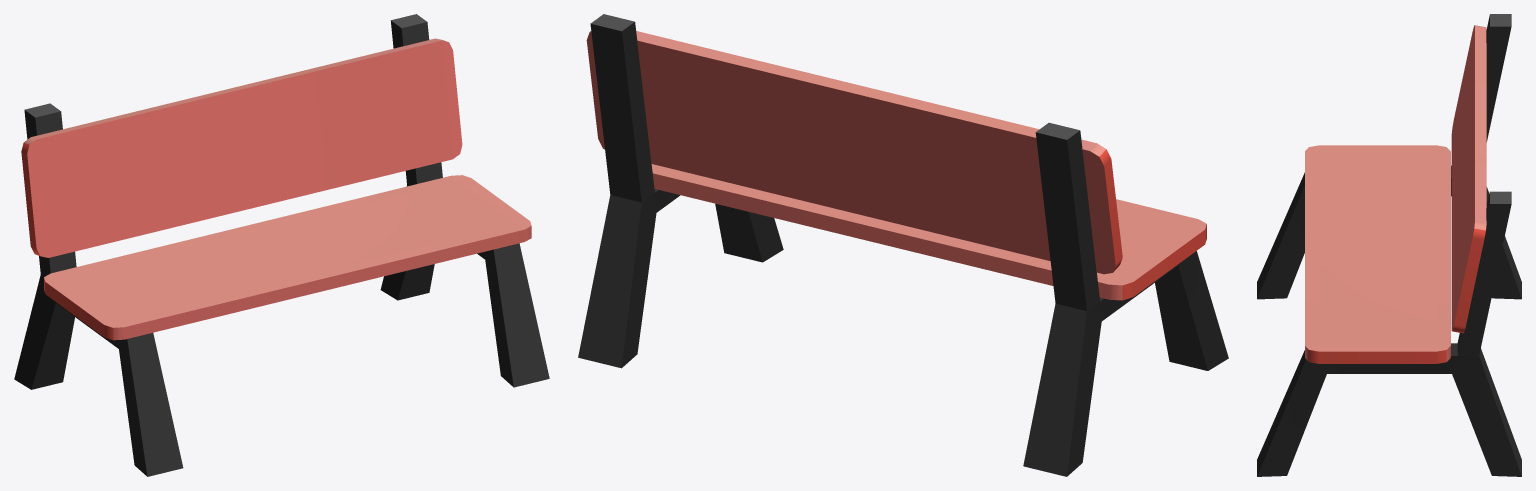
The model's file is Chair.fbx.
3 renders of one model, left to right at view 1: azimuth 30°, elevation 25°; view 2: azimuth 150°, elevation 25°; view 3: azimuth 270°, elevation 25°, orthographic. The views are drawn at different scales.
Visible parts, largest first — view 1: Chair; view 2: Chair; view 3: Chair.
Part boxes in pixels (bbox=[...]): Chair: bbox=[14, 14, 549, 476]; Chair: bbox=[578, 14, 1228, 476]; Chair: bbox=[1257, 14, 1521, 476].
Size of the model in its own units: 347 by 212 by 188.
